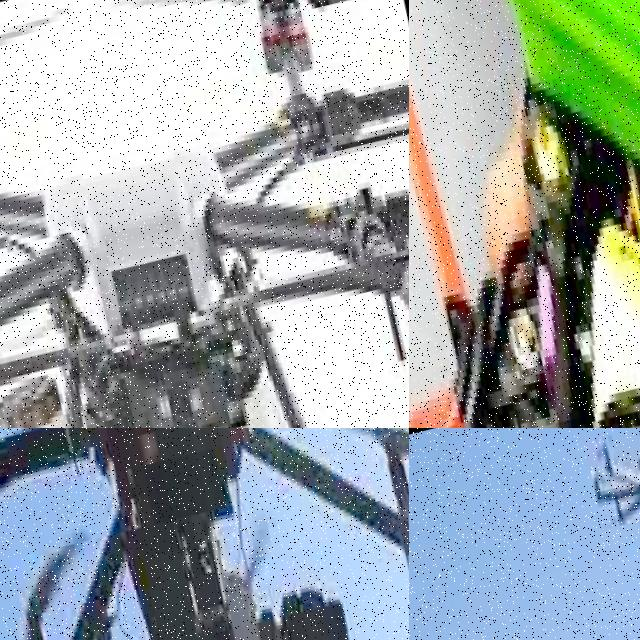0: (0, 428, 409, 640), (576, 428, 640, 637)
drone: (0, 0, 409, 428), (409, 0, 640, 428)
